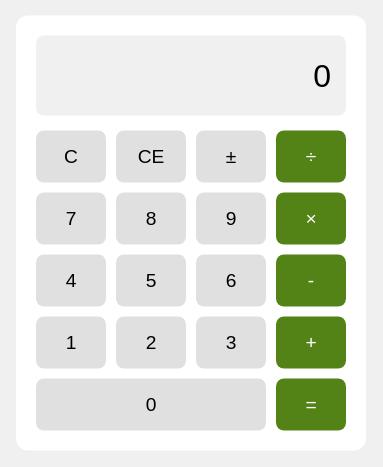
Test: basic arithmetic operations › basic multiplication
Click the button "2" at (151, 342), box [116, 316, 186, 368]
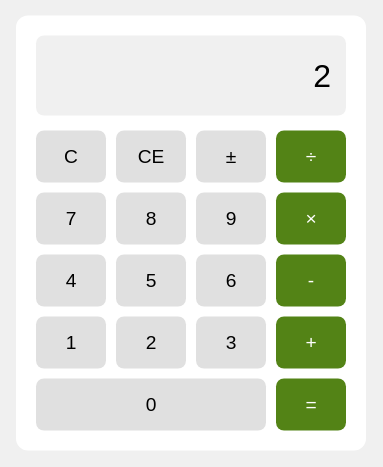
Click the button "×" at (311, 218), box [276, 192, 346, 244]
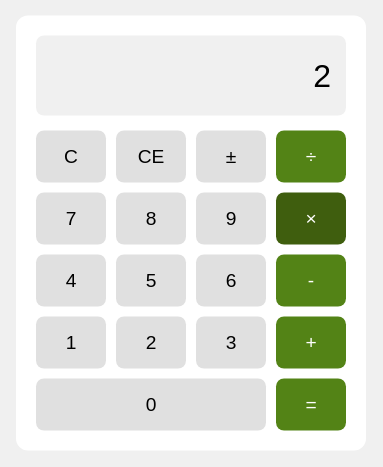
Click the button "3" at (231, 342), box [196, 316, 266, 368]
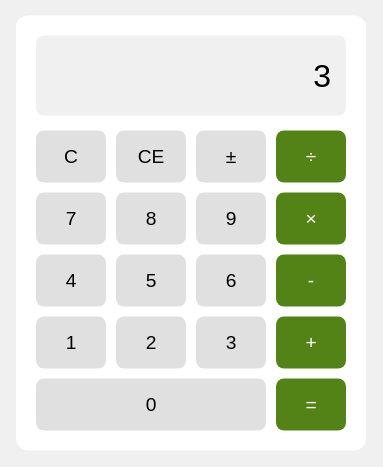
Click the button "=" at (311, 404), box [276, 378, 346, 430]
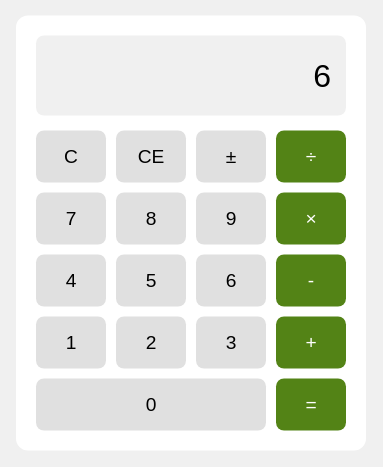
expect the text "0" reads "6": met, box [313, 57, 331, 93]
